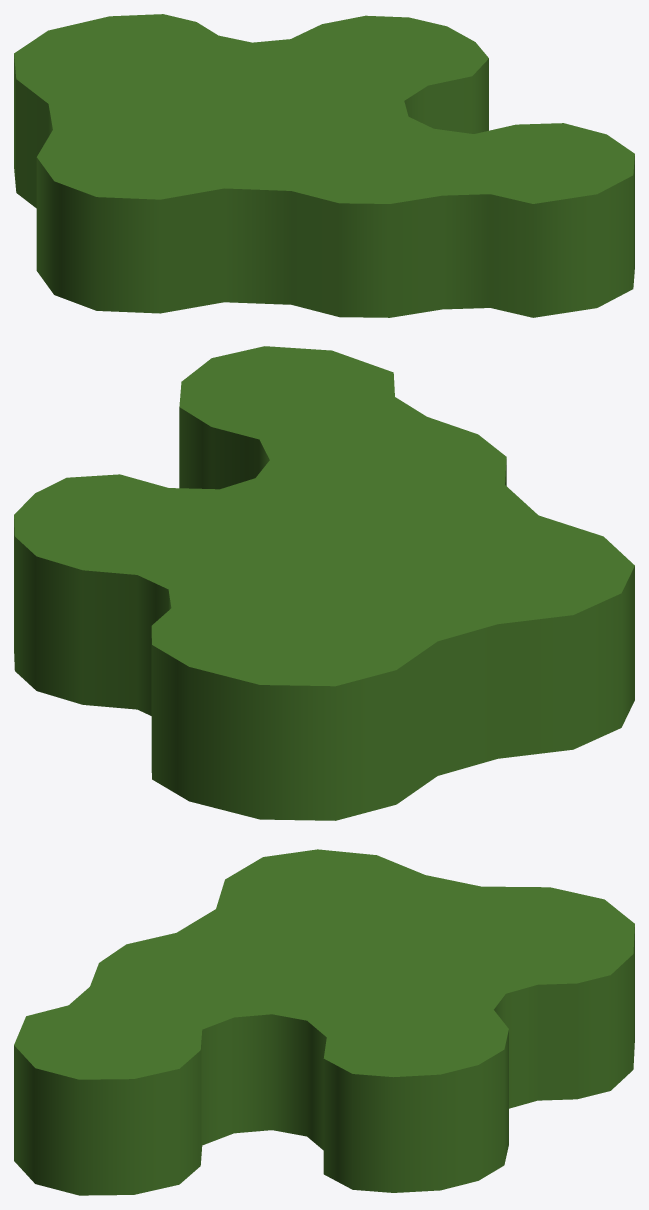
Rendered from Islands_01.fbx.
The picture shows the model from 3 angles, top to bottom: view 1: azimuth 30°, elevation 25°; view 2: azimuth 150°, elevation 25°; view 3: azimuth 270°, elevation 25°; orthographic projection. The views are drawn at different scales.
Parts seen in each view (by area): view 1: Island_01; view 2: Island_01; view 3: Island_01.
Boxes of the visible parts, bbox=[...] form: Island_01: bbox=[14, 14, 634, 317]; Island_01: bbox=[14, 346, 634, 820]; Island_01: bbox=[14, 849, 634, 1195].
Size of the model in its own units: 652 by 153 by 743.
